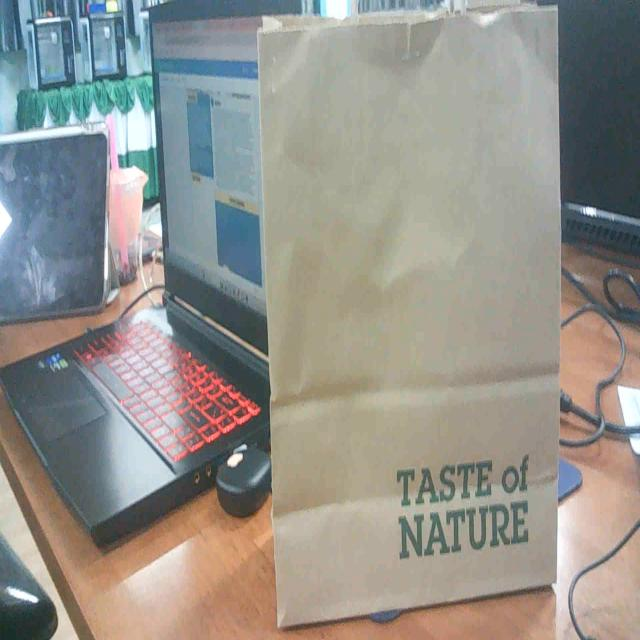bag: (242, 0, 570, 630)
